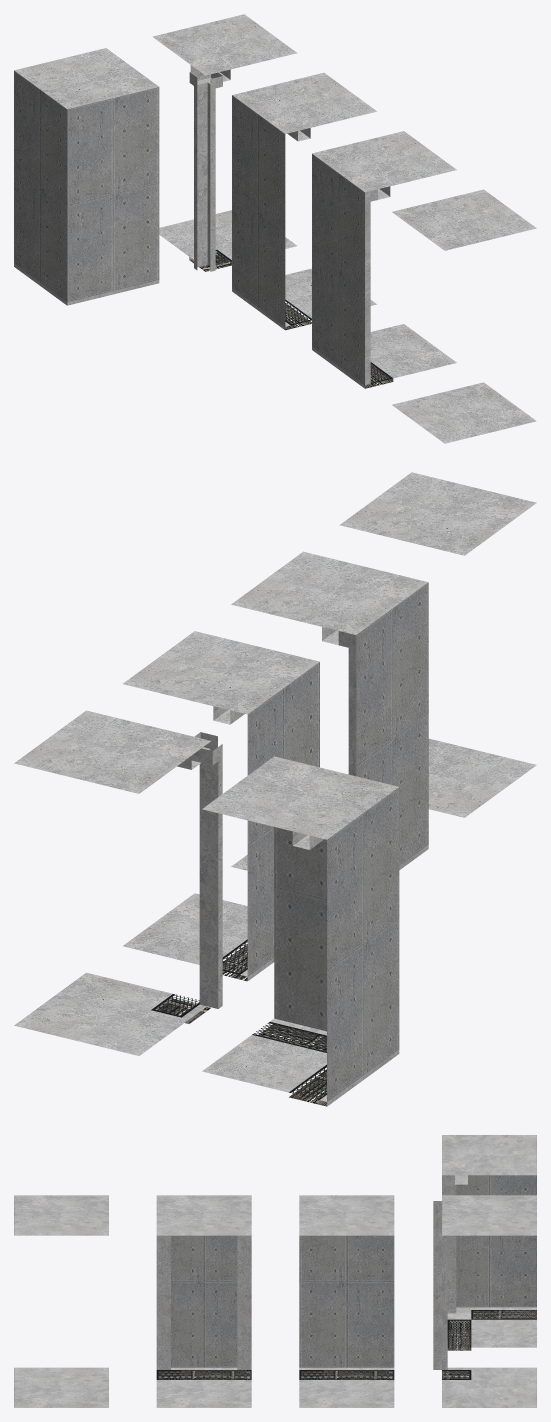
Rendered from corridor-a.glb.
3 renders of one model, top to bottom at view 1: azimuth 30°, elevation 25°; view 2: azimuth 150°, elevation 25°; view 3: azimuth 270°, elevation 25°, orthographic. The views are drawn at different scales.
Parts seen in each view (by area): view 1: Plane.005, Plane.001, Plane.003, Plane.009, Plane.013; view 2: Plane.005, Plane.001, Plane.009, Plane.003, Plane.013; view 3: Plane.001, Plane.003, Plane.005, Plane.009, Plane.013.
Part boxes in pixels (x1,y1,x2,y2): Plane.005: [14, 48, 159, 305]; Plane.001: [312, 131, 456, 388]; Plane.003: [232, 72, 376, 330]; Plane.009: [152, 14, 297, 271]; Plane.013: [392, 189, 536, 443]; Plane.005: [202, 756, 399, 1106]; Plane.001: [231, 551, 428, 870]; Plane.009: [14, 710, 222, 1055]; Plane.003: [123, 631, 319, 981]; Plane.013: [339, 472, 536, 817]; Plane.001: [156, 1195, 251, 1407]; Plane.003: [299, 1195, 394, 1407]; Plane.005: [442, 1135, 536, 1350]; Plane.009: [433, 1191, 536, 1407]; Plane.013: [14, 1195, 108, 1407].
Bounding box in the file's own units: 5 × 4.07 × 11.
Materials: 3 (2 with a texture image).
